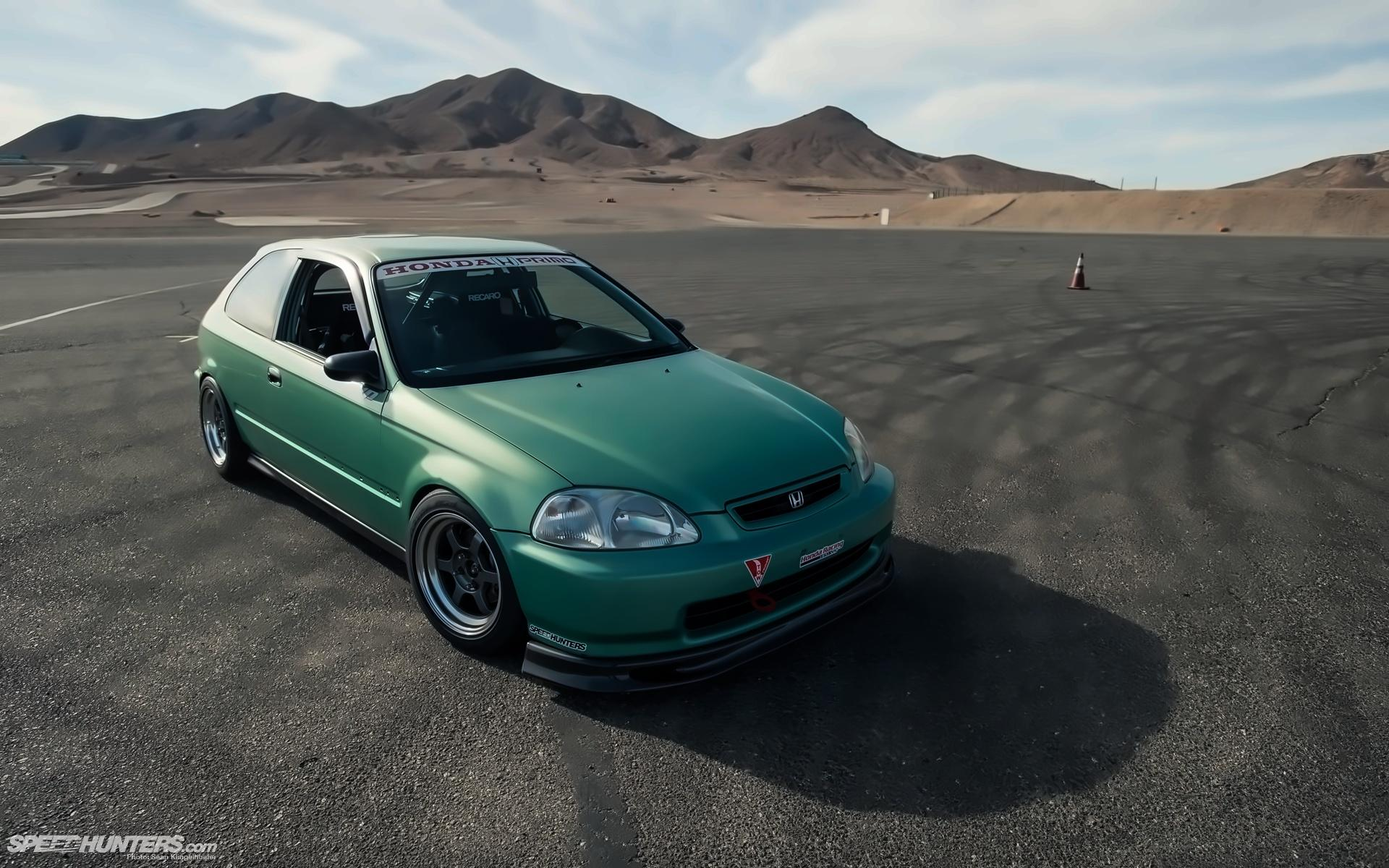Car hood: (418, 349, 855, 516)
Driver-s door - -F-R-: (258, 245, 396, 545)
Fender - -F-R-: (372, 376, 575, 567)
Front bumper: (518, 557, 903, 716)
Headlight - -L-: (841, 412, 878, 482)
Headlight - -R-: (528, 483, 701, 556)
Side bumper - -R-: (237, 436, 407, 587)
Side mirror - -R-: (324, 349, 381, 392)
